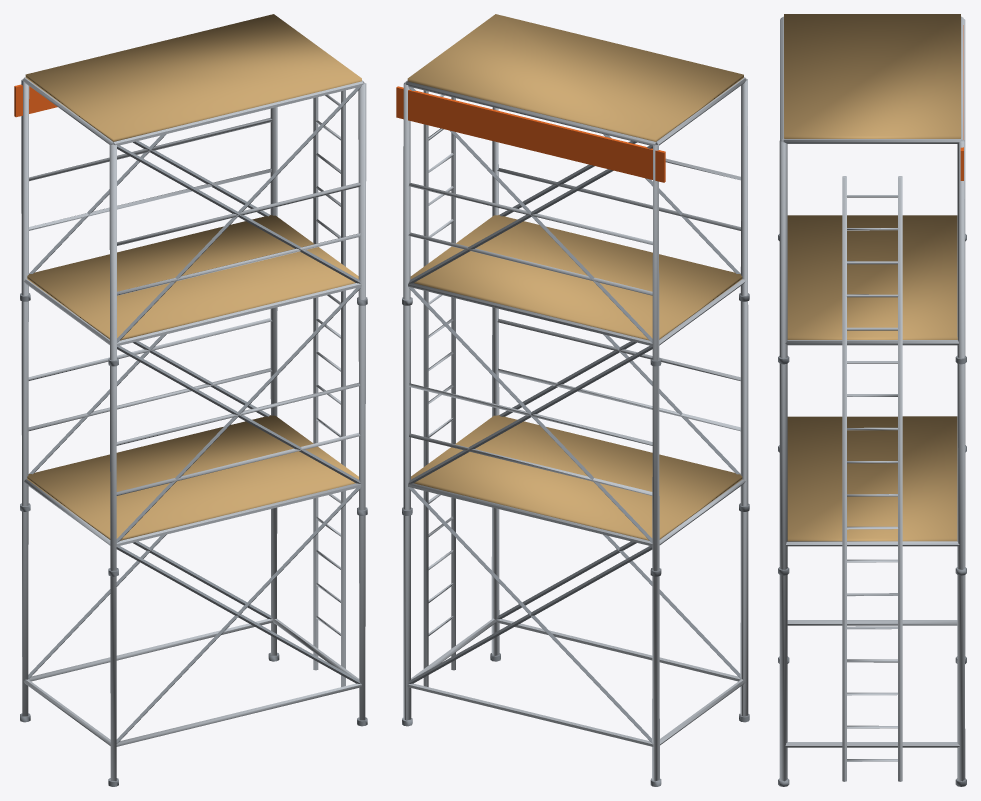
The model's file is scaffold_tower.glb.
3 renders of one model, left to right at view 1: azimuth 30°, elevation 25°; view 2: azimuth 150°, elevation 25°; view 3: azimuth 270°, elevation 25°, orthographic.
Visible parts, largest first — view 1: scaffold_tower; view 2: scaffold_tower; view 3: scaffold_tower.
Part boxes in pixels (x1,y1,x2,y2): scaffold_tower: [14, 14, 367, 786]; scaffold_tower: [396, 14, 749, 786]; scaffold_tower: [778, 14, 966, 786].
Bounding box in the file's own units: 2.85 × 6.45 × 1.7.
